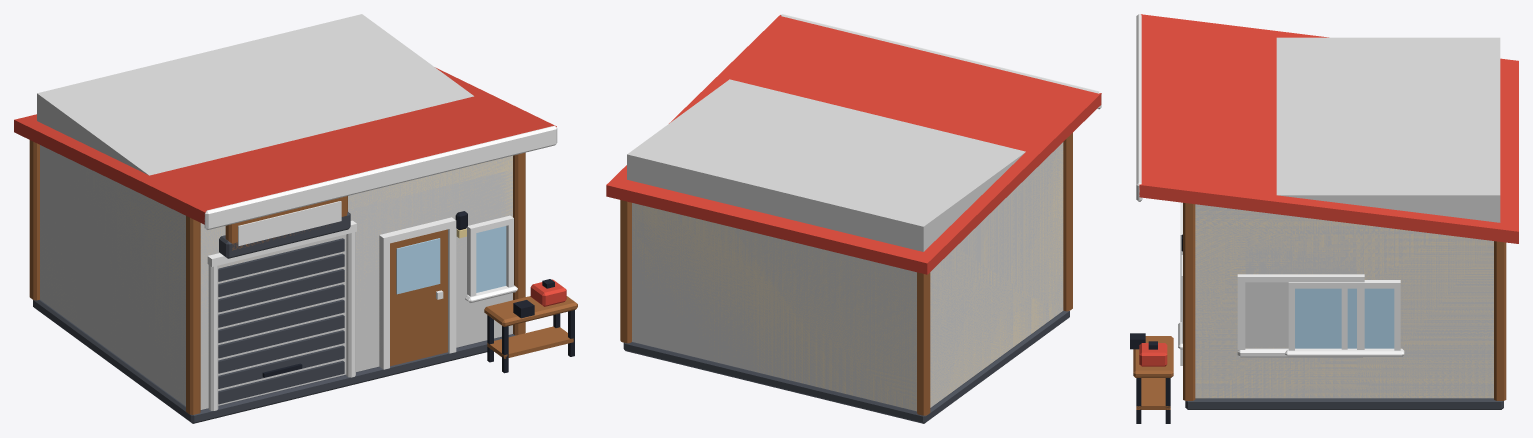
Rendered from house-workshop.glb.
3 renders of one model, left to right at view 1: azimuth 30°, elevation 25°; view 2: azimuth 150°, elevation 25°; view 3: azimuth 270°, elevation 25°, orthographic. The views are drawn at different scales.
Parts seen in each view (by area): view 1: house, COL_body; view 2: COL_body, house; view 3: house, COL_body.
Part boxes in pixels (left/top/right/bottom): house: left=14, top=67, right=577, bottom=423; COL_body: left=37, top=14, right=512, bottom=409; COL_body: left=627, top=79, right=1063, bottom=410; house: left=606, top=14, right=1101, bottom=423; house: left=1130, top=14, right=1518, bottom=423; COL_body: left=1195, top=37, right=1500, bottom=398.
Size of the model in its own units: 6.85 by 4.12 by 6.25.
